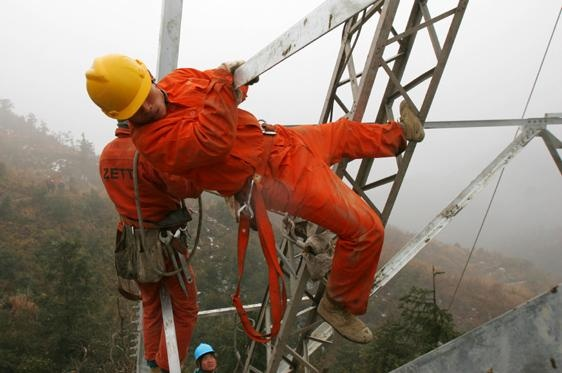yellow: (82, 52, 172, 126)
